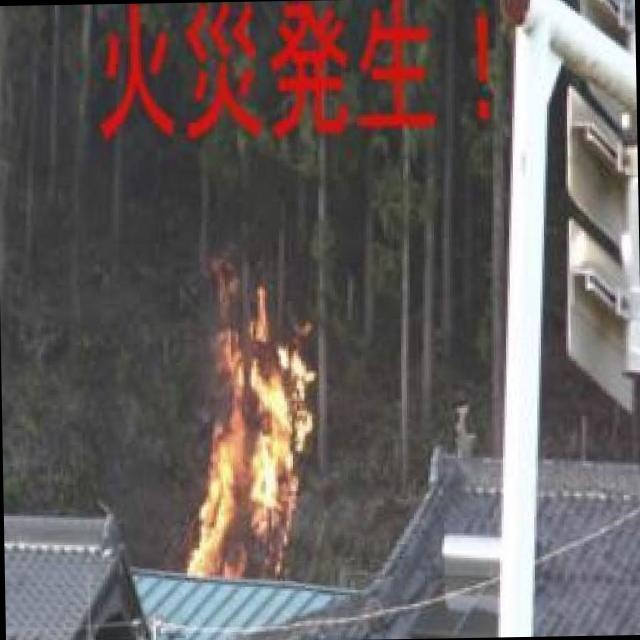Fire: (178, 244, 318, 588)
